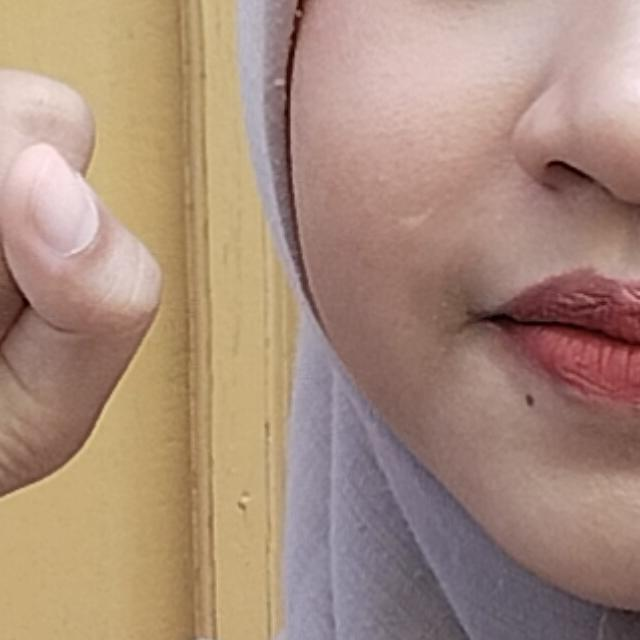baik: (0, 8, 400, 640)
